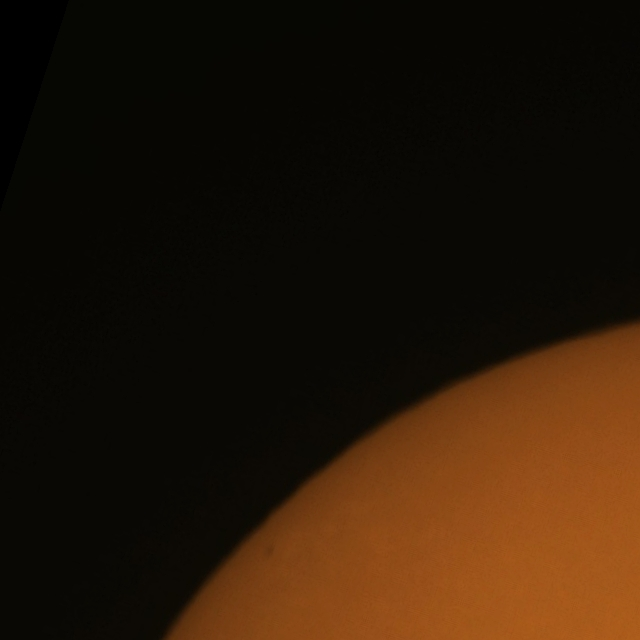sunspot: (258, 526, 284, 566)
